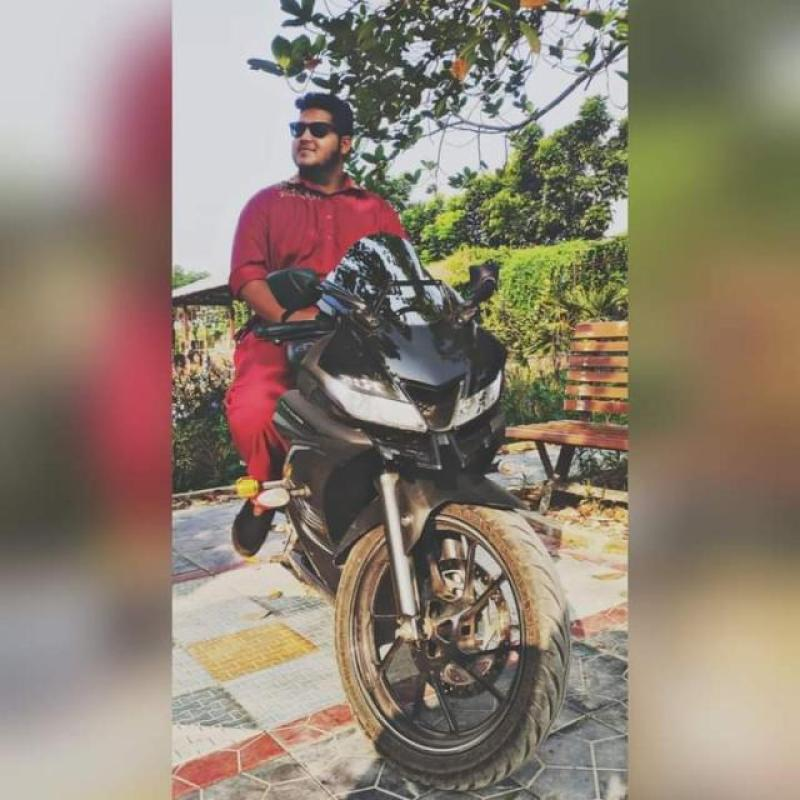nohelmet: (284, 86, 366, 192)
